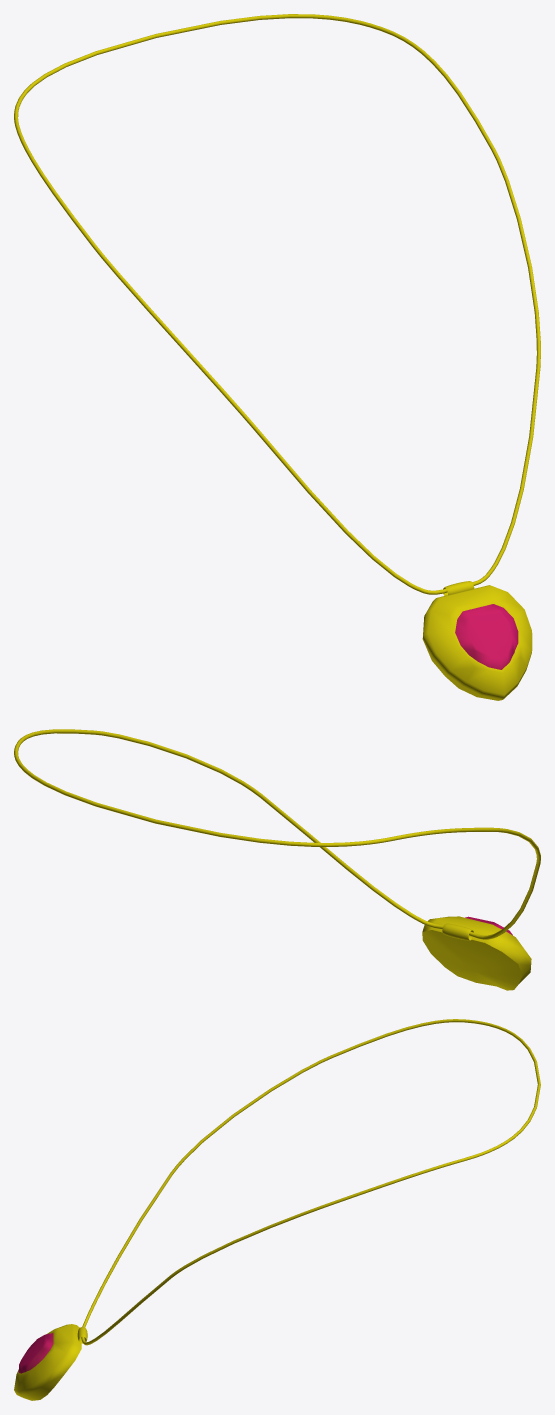
File: necklace-heart.glb
3 renders of one model, top to bottom at view 1: azimuth 30°, elevation 25°; view 2: azimuth 150°, elevation 25°; view 3: azimuth 270°, elevation 25°, orthographic. The views are drawn at different scales.
Parts seen in each view (by area): view 1: Object_2, Object_4, Object_3; view 2: Object_2, Object_4, Object_5; view 3: Object_2, Object_4, Object_3.
Boxes of the visible parts, x1,y1,x2,y2 form: Object_2: [14, 14, 540, 594]; Object_4: [422, 585, 532, 700]; Object_3: [455, 604, 518, 669]; Object_2: [14, 729, 540, 939]; Object_4: [422, 916, 531, 990]; Object_5: [442, 923, 473, 940]; Object_2: [81, 1019, 540, 1345]; Object_4: [14, 1324, 81, 1400]; Object_3: [18, 1333, 53, 1373].
Size of the model in its own units: 0.0557 by 0.0543 by 0.0823.
